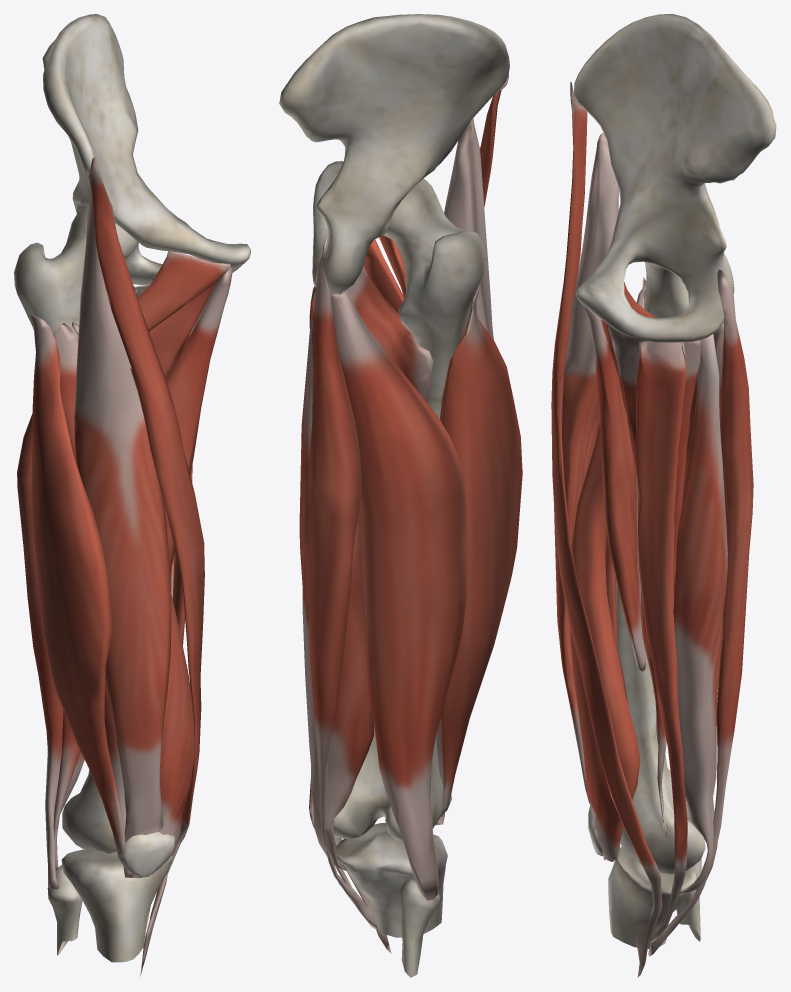
The model's file is thigh-muscles.glb.
3 views of the same model, side by side, from view 1: azimuth 30°, elevation 25°; view 2: azimuth 150°, elevation 25°; view 3: azimuth 270°, elevation 25° (orthographic). The views are drawn at different scales.
Parts seen in each view (by area): view 1: Right_rectus_femoris, Right_vastus_lateralis, Right_hip_bone__os_coxa_or_innominate_bone_, Right_sartorius, Right_femur, Right_tibia, Long_head_of_right_biceps_femoris, Right_vastus_medialis, Right_adductor_longus, Right_pectineus, Right_vastus_intermedius, Right_adductor_brevis (+4 smaller); view 2: Long_head_of_right_biceps_femoris, Right_hip_bone__os_coxa_or_innominate_bone_, Right_vastus_lateralis, Right_semitendinosus, Right_femur, Right_semimembranosus, Right_tibia, Right_rectus_femoris, Right_adductor_magnus, Right_fibula, Right_sartorius, Right_adductor_brevis (+1 smaller); view 3: Right_hip_bone__os_coxa_or_innominate_bone_, Right_semimembranosus, Right_gracilis, Right_sartorius, Right_semitendinosus, Right_vastus_medialis, Right_rectus_femoris, Right_femur, Right_adductor_longus, Right_adductor_magnus, Right_tibia, Long_head_of_right_biceps_femoris (+2 smaller).
Boxes of the visible parts, box(x1,y1,x2,y2) form: Right_rectus_femoris: box(74, 191, 171, 841); Right_vastus_lateralis: box(30, 314, 128, 871); Right_hip_bone__os_coxa_or_innominate_bone_: box(42, 14, 250, 285); Right_sartorius: box(87, 157, 204, 976); Right_femur: box(14, 206, 137, 854); Right_tibia: box(61, 849, 173, 962); Long_head_of_right_biceps_femoris: box(17, 413, 84, 889); Right_vastus_medialis: box(72, 322, 194, 861); Right_adductor_longus: box(165, 267, 232, 570); Right_pectineus: box(137, 251, 230, 331); Right_vastus_intermedius: box(53, 323, 154, 878); Right_adductor_brevis: box(149, 267, 234, 378); Long_head_of_right_biceps_femoris: box(330, 290, 466, 900); Right_hip_bone__os_coxa_or_innominate_bone_: box(279, 14, 509, 293); Right_vastus_lateralis: box(440, 288, 522, 816); Right_semitendinosus: box(308, 234, 377, 929); Right_femur: box(333, 178, 485, 841); Right_semimembranosus: box(299, 290, 373, 870); Right_tibia: box(336, 823, 447, 937); Right_rectus_femoris: box(444, 118, 493, 339); Right_adductor_magnus: box(345, 266, 433, 402); Right_fibula: box(399, 878, 439, 977); Right_sartorius: box(334, 73, 508, 953); Right_adductor_brevis: box(363, 239, 404, 312); Right_hip_bone__os_coxa_or_innominate_bone_: box(574, 14, 776, 342); Right_semimembranosus: box(673, 334, 727, 895); Right_gracilis: box(636, 341, 687, 942); Right_sartorius: box(551, 82, 662, 977); Right_semitendinosus: box(648, 269, 753, 956); Right_vastus_medialis: box(569, 285, 646, 861); Right_rectus_femoris: box(554, 133, 619, 805); Right_femur: box(616, 262, 705, 874); Right_adductor_longus: box(585, 307, 645, 671); Right_adductor_magnus: box(608, 325, 703, 838); Right_tibia: box(608, 846, 696, 948); Long_head_of_right_biceps_femoris: box(674, 323, 723, 597).
Bounding box in the file's own units: 0.1451 × 0.671 × 0.1464.
19 materials, 19 textured.
